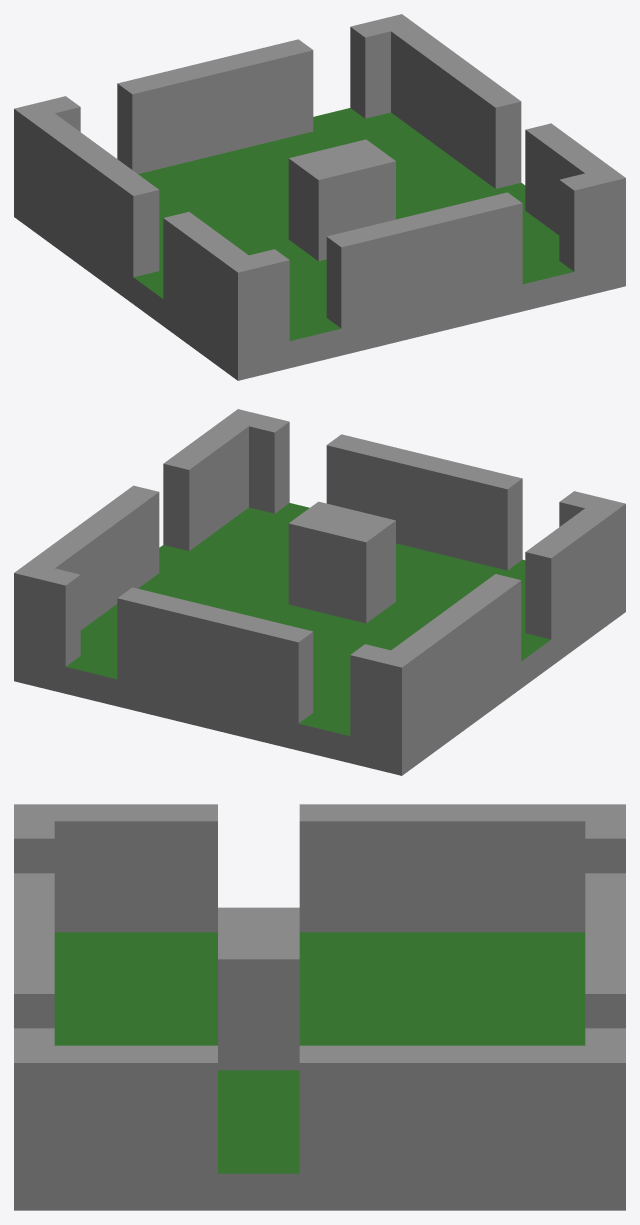
The picture shows the model from 3 angles, top to bottom: view 1: azimuth 30°, elevation 25°; view 2: azimuth 150°, elevation 25°; view 3: azimuth 270°, elevation 25°; orthographic projection. The views are drawn at different scales.
Parts seen in each view (by area): view 1: Box009; view 2: Box009; view 3: Box009.
Boxes of the visible parts, box(x1,y1,x2,y2) form: Box009: box(14, 14, 625, 380); Box009: box(14, 409, 625, 775); Box009: box(14, 804, 625, 1210).
Bounding box in the file's own units: 1500 × 400 × 1500.
